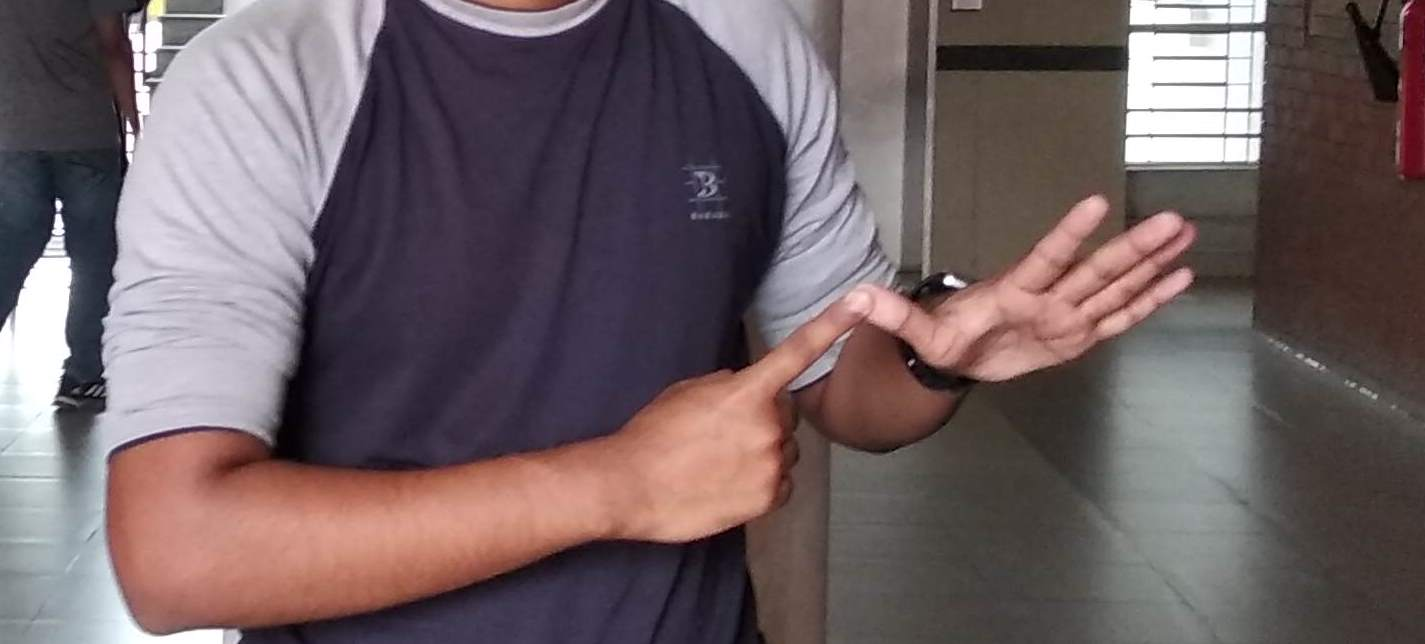a: (700, 199, 1190, 530)
